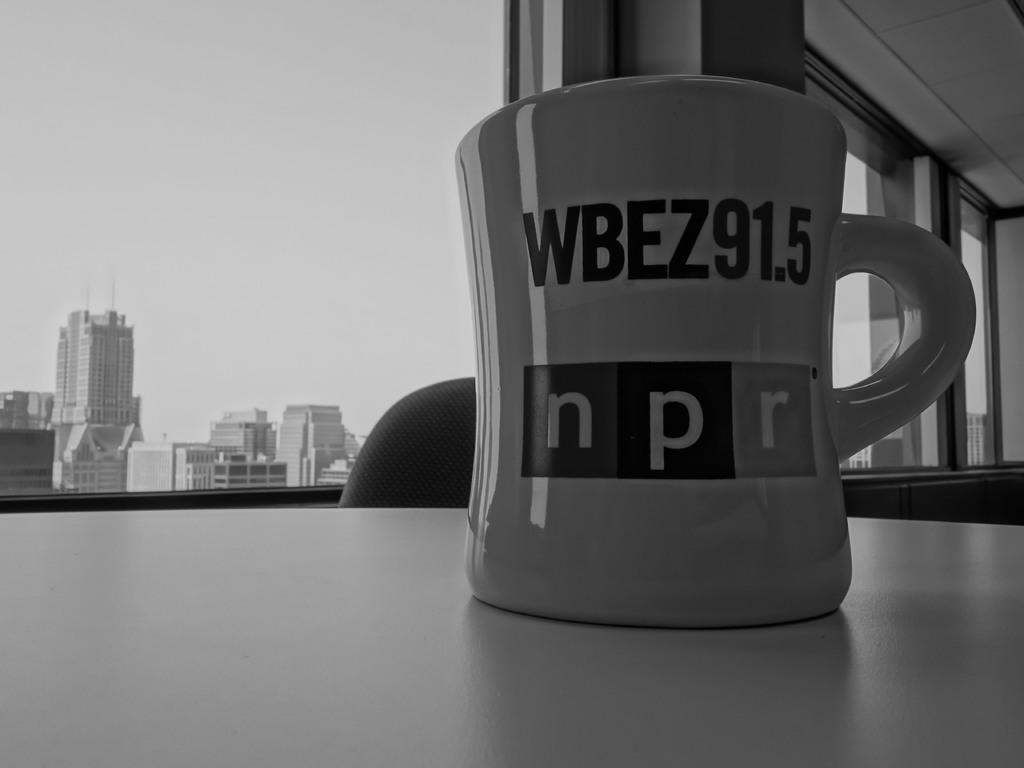Chair: (336, 376, 476, 508)
